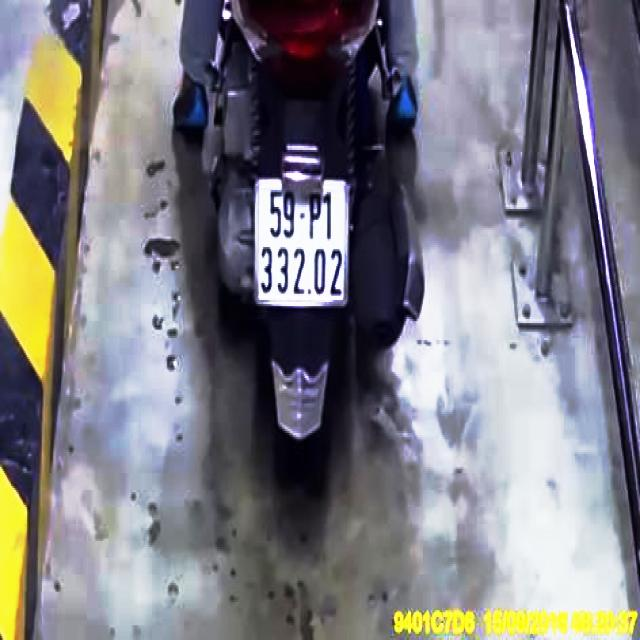license_plate: (256, 181, 349, 307)
